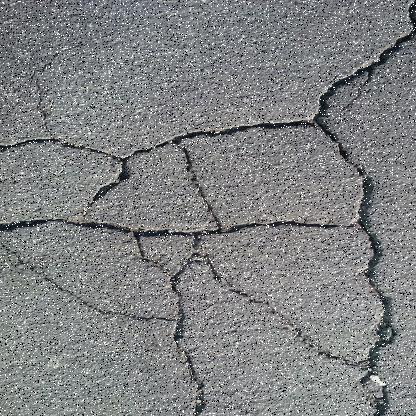Cracks: (0, 113, 407, 416), (293, 0, 416, 132)
